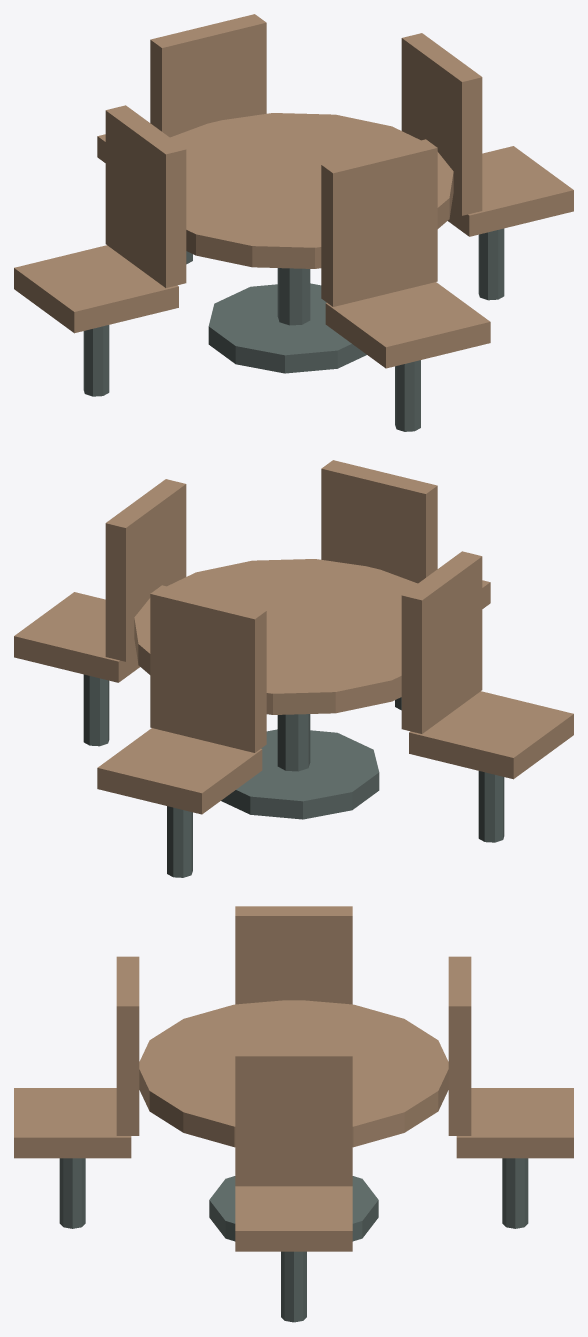
File: outdoor-table-set-identity.glb
3 renders of one model, top to bottom at view 1: azimuth 30°, elevation 25°; view 2: azimuth 150°, elevation 25°; view 3: azimuth 270°, elevation 25°, orthographic. The views are drawn at different scales.
Parts seen in each view (by area): view 1: outdoor-table-set-wood-identity, outdoor-table-set-metal-identity; view 2: outdoor-table-set-wood-identity, outdoor-table-set-metal-identity; view 3: outdoor-table-set-wood-identity, outdoor-table-set-metal-identity.
Boxes of the visible parts, box(x1,y1,x2,y2) form: outdoor-table-set-wood-identity: box(14, 14, 573, 368); outdoor-table-set-metal-identity: box(83, 228, 504, 431); outdoor-table-set-wood-identity: box(14, 460, 573, 814); outdoor-table-set-metal-identity: box(83, 674, 504, 877); outdoor-table-set-wood-identity: box(14, 906, 573, 1251); outdoor-table-set-metal-identity: box(59, 1158, 528, 1322).
Bounding box in the file's own units: 0.86 × 0.41 × 0.86.
